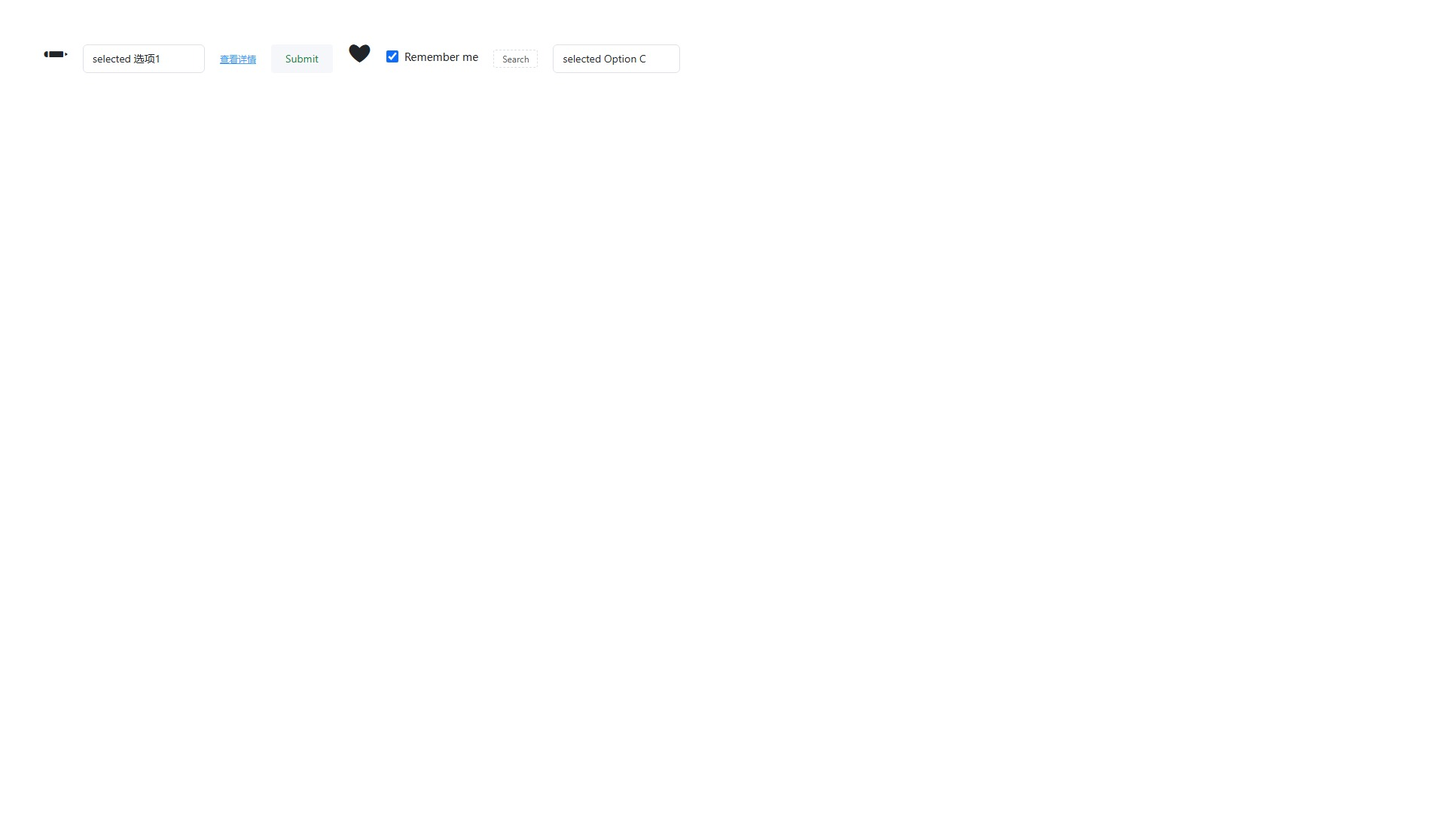button: (271, 44, 333, 73), (493, 50, 538, 68)
checkbox: (386, 50, 398, 62)
icon: (404, 49, 478, 64), (44, 41, 68, 65), (348, 41, 371, 65)
link: (220, 53, 256, 65)
radio: (386, 49, 478, 64)
select: (553, 44, 680, 73), (83, 44, 205, 73)
